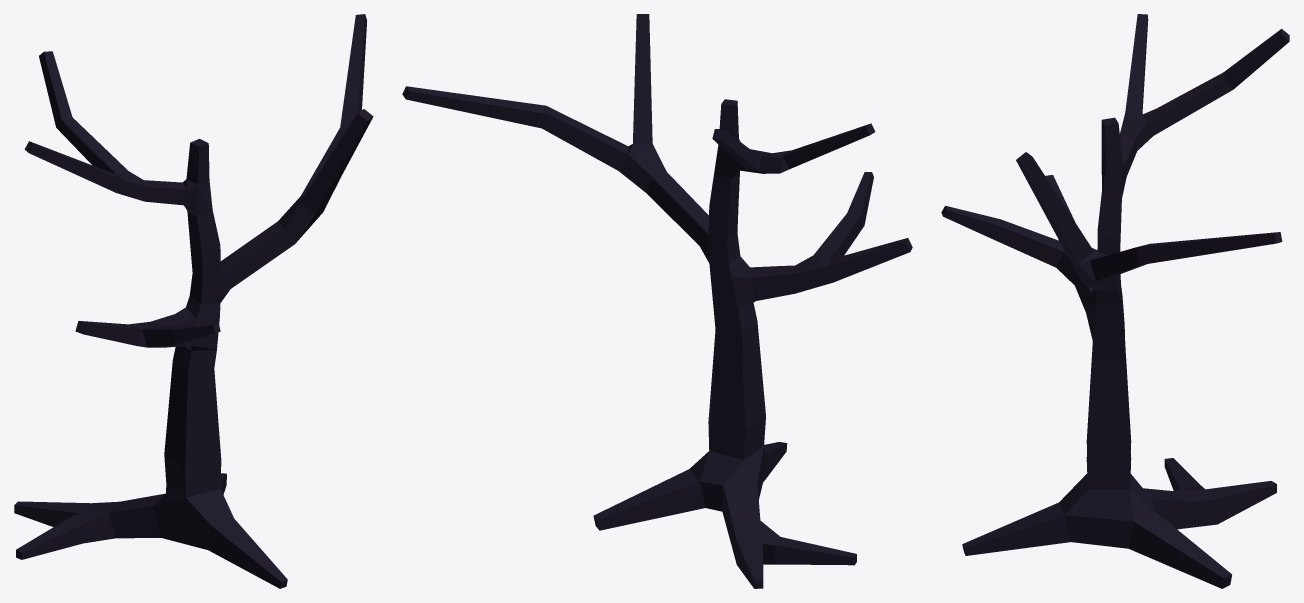
Rendered from Tree_Dead_04.fbx.
The picture shows the model from 3 angles, left to right: view 1: azimuth 30°, elevation 25°; view 2: azimuth 150°, elevation 25°; view 3: azimuth 270°, elevation 25°; orthographic projection. The views are drawn at different scales.
Visible parts, largest first — view 1: Tree_Dead_04; view 2: Tree_Dead_04; view 3: Tree_Dead_04.
Part boxes in pixels (left/top/right/bottom): Tree_Dead_04: left=14, top=14, right=373, bottom=588; Tree_Dead_04: left=402, top=14, right=912, bottom=588; Tree_Dead_04: left=941, top=14, right=1289, bottom=588.
Size of the model in its own units: 278 by 301 by 195.
